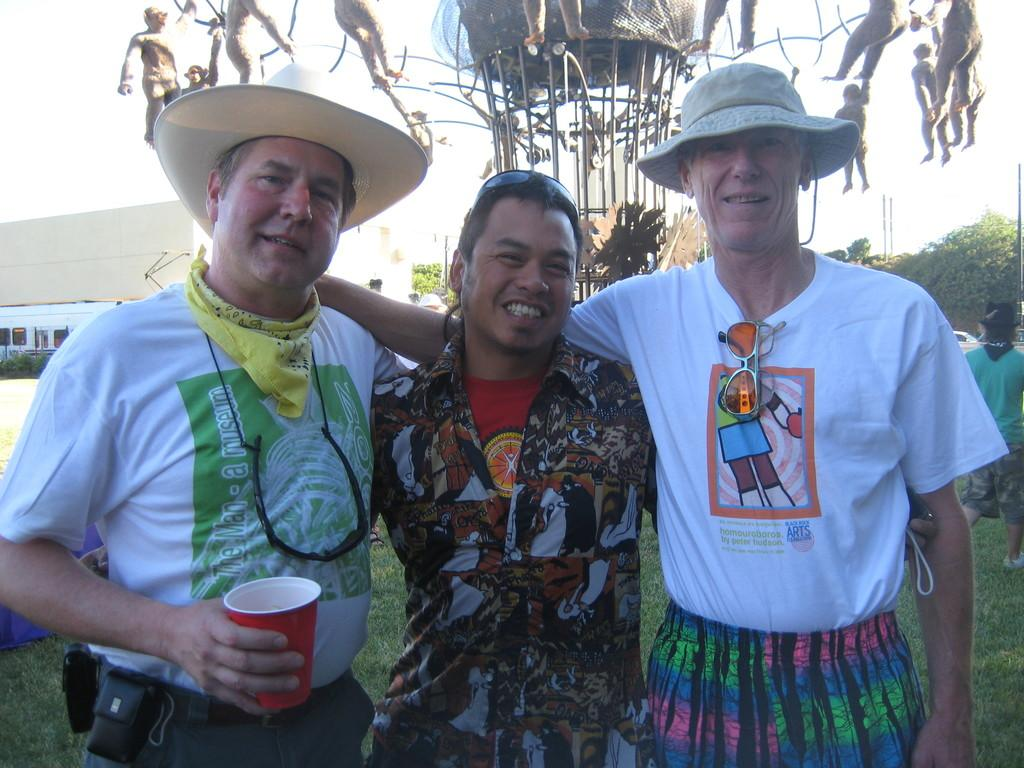Hat: (150, 60, 429, 242), (630, 57, 858, 246), (978, 302, 1022, 328)
